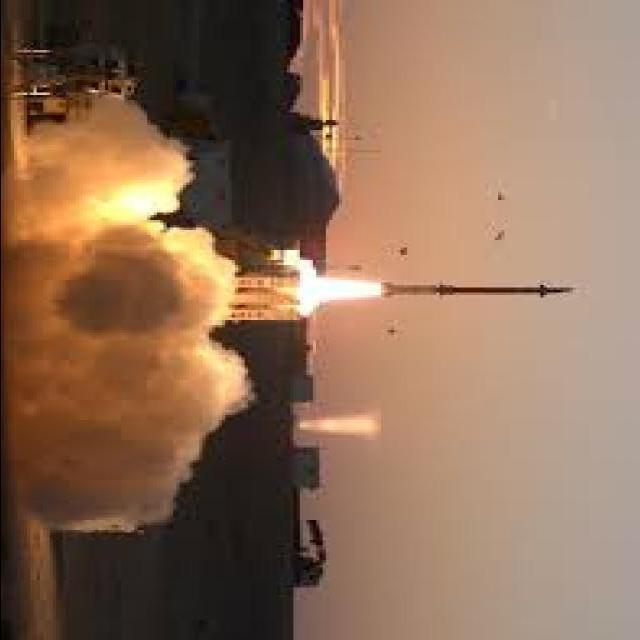Missile: (373, 283, 578, 296)
